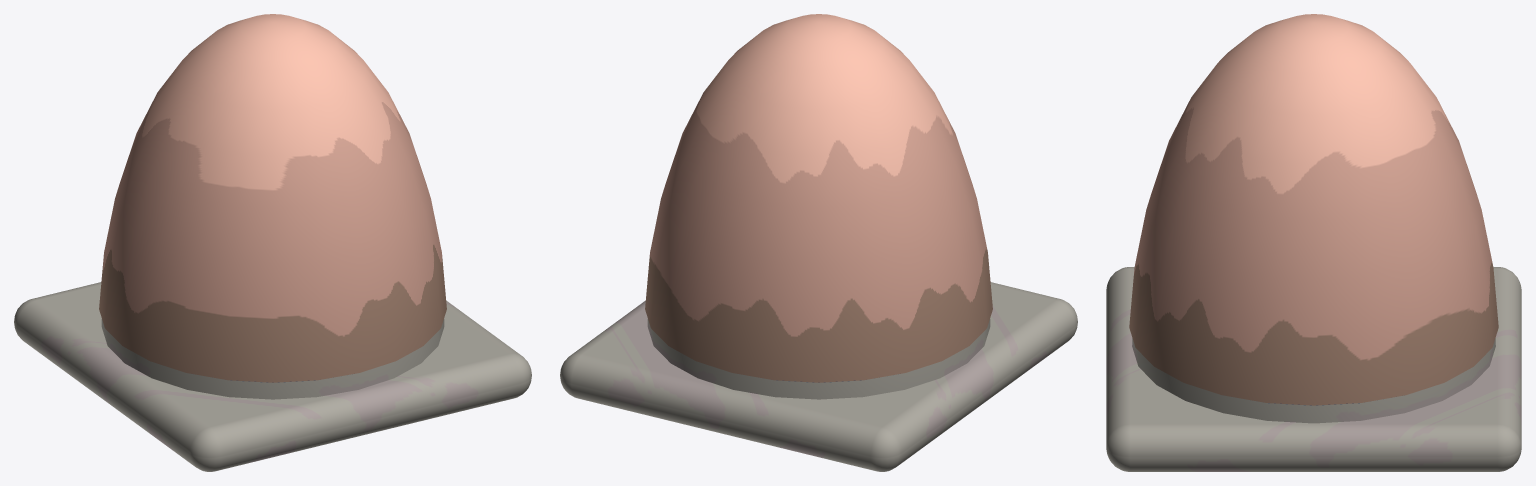
File: R4B_Dome.glb
3 renders of one model, left to right at view 1: azimuth 30°, elevation 25°; view 2: azimuth 150°, elevation 25°; view 3: azimuth 270°, elevation 25°, orthographic. The views are drawn at different scales.
Visible parts, largest first — view 1: R4B_Dome; view 2: R4B_Dome; view 3: R4B_Dome.
Part boxes in pixels (left/top/right/bottom): R4B_Dome: left=14, top=14, right=531, bottom=471; R4B_Dome: left=560, top=14, right=1077, bottom=471; R4B_Dome: left=1106, top=14, right=1521, bottom=471.
Bounding box in the file's own units: 0.512 × 0.506 × 0.512.
3 materials, 3 textured.
